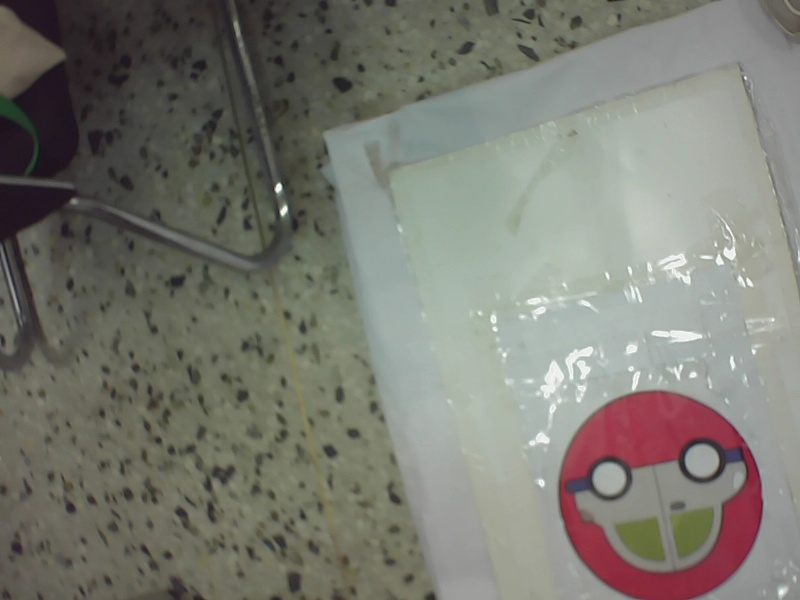areaC: (549, 387, 769, 594)
